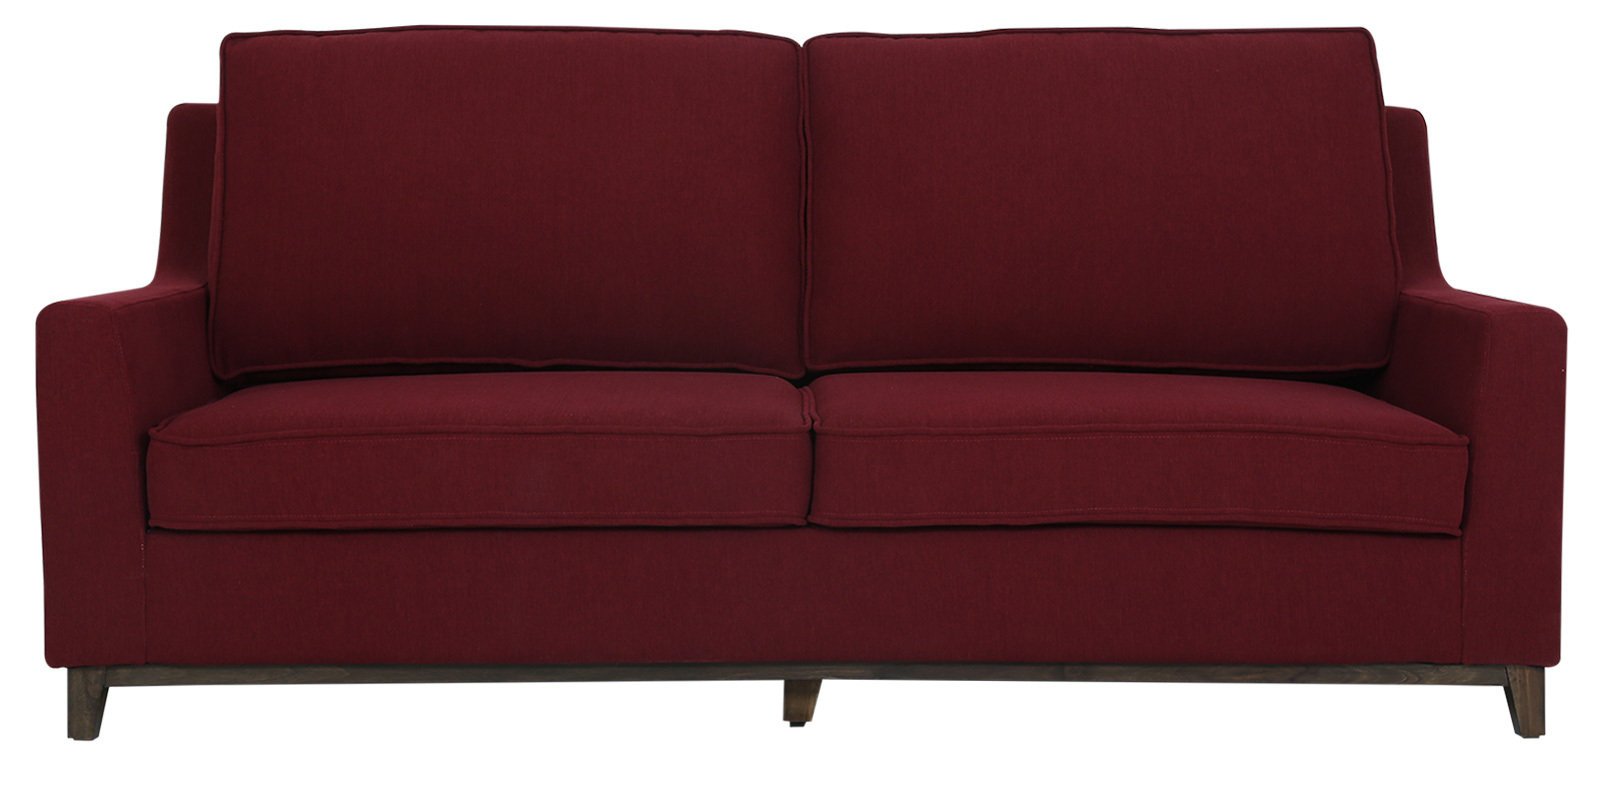Diego Three Seater Sofa in Garnet Red Colour by CasaCraft: (36, 28, 1572, 743)
